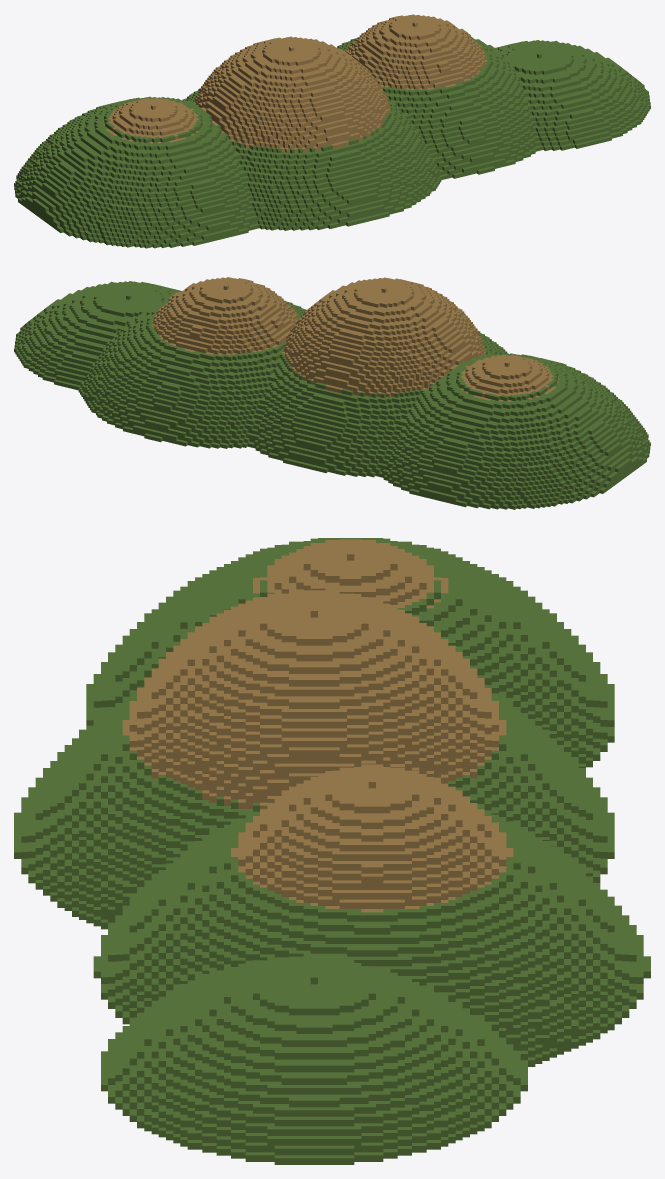
File: montana.obj
The picture shows the model from 3 angles, top to bottom: view 1: azimuth 30°, elevation 25°; view 2: azimuth 150°, elevation 25°; view 3: azimuth 270°, elevation 25°; orthographic projection. The views are drawn at different scales.
Size of the model in its own units: 182 by 35 by 88.
